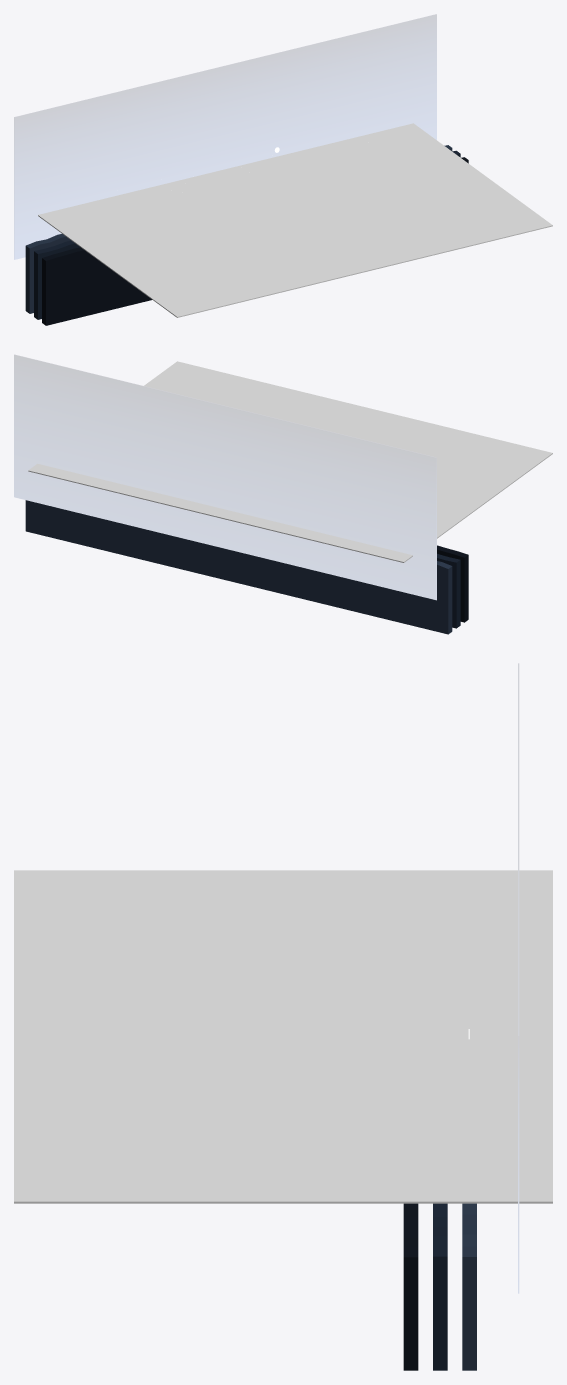
Rendered from nightwatch.glb.
The picture shows the model from 3 angles, top to bottom: view 1: azimuth 30°, elevation 25°; view 2: azimuth 150°, elevation 25°; view 3: azimuth 270°, elevation 25°; orthographic projection. The views are drawn at different scales.
Visible parts, largest first — view 1: Ground contact / transparent shadow receiver.001, Sky gradient / editable material.001, World / terrain and architecture.001; view 2: Sky gradient / editable material.001, Ground contact / transparent shadow receiver.001, World / terrain and architecture.001; view 3: Ground contact / transparent shadow receiver.001, World / terrain and architecture.001, Sky gradient / editable material.001.
Boxes of the visible parts, bbox=[...] form: Ground contact / transparent shadow receiver.001: bbox=[38, 123, 552, 317]; Sky gradient / editable material.001: bbox=[14, 14, 436, 259]; World / terrain and architecture.001: bbox=[25, 145, 468, 325]; Sky gradient / editable material.001: bbox=[14, 354, 436, 600]; Ground contact / transparent shadow receiver.001: bbox=[28, 361, 552, 562]; World / terrain and architecture.001: bbox=[25, 500, 468, 634]; Ground contact / transparent shadow receiver.001: bbox=[14, 870, 552, 1203]; World / terrain and architecture.001: bbox=[403, 1203, 476, 1370]; Sky gradient / editable material.001: bbox=[518, 663, 519, 1293].
Bounding box in the file's own units: 180 × 75.4 × 110.
